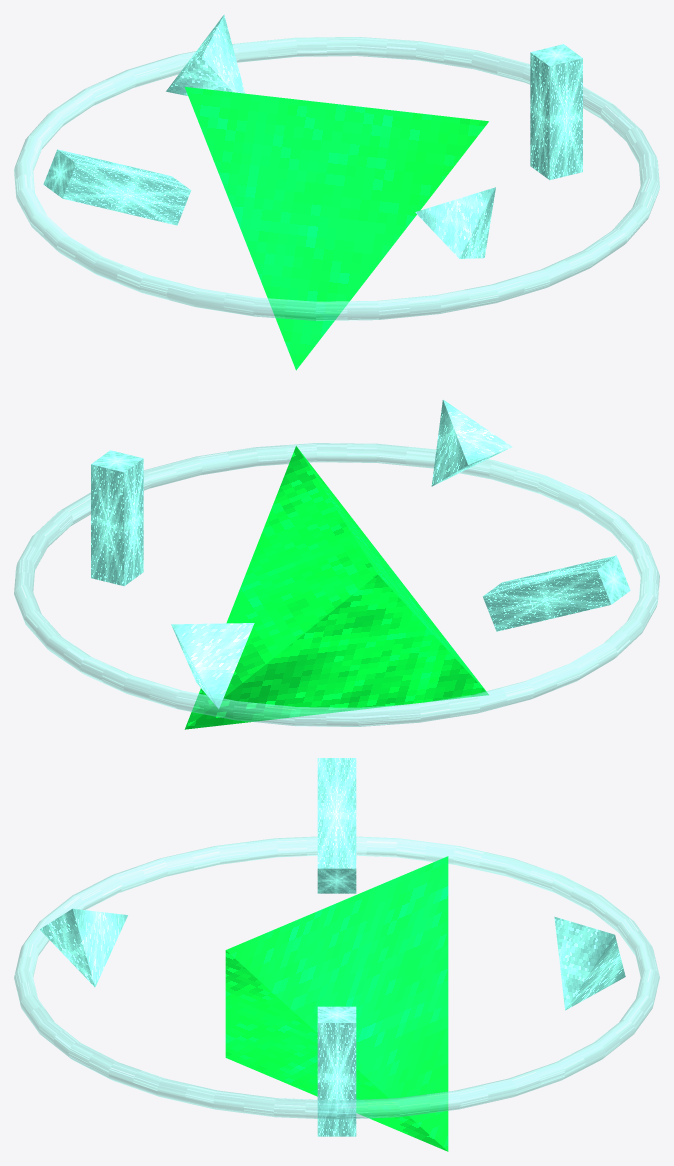
Rendered from anomaly-cluster-green.glb.
3 views of the same model, one above another, from view 1: azimuth 30°, elevation 25°; view 2: azimuth 150°, elevation 25°; view 3: azimuth 270°, elevation 25° (orthographic).
Parts seen in each view (by area): view 1: shell, ring, orbital-0, orbital-2, orbital-1, orbital-3; view 2: shell, ring, orbital-0, orbital-2, orbital-3, orbital-1; view 3: shell, ring, orbital-2, orbital-0, orbital-3, orbital-1.
Boxes of the visible parts, x1,y1,x2,y2 form: shell: (185,87,488,370); ring: (14,37,659,320); orbital-0: (530,44,582,180); orbital-2: (43,149,191,225); orbital-1: (415,187,495,258); orbital-3: (166,14,244,95); shell: (184,446,488,729); ring: (14,443,659,726); orbital-0: (91,450,143,586); orbital-2: (482,555,630,631); orbital-3: (171,623,254,708); orbital-1: (431,399,511,486); shell: (225,856,448,1151); ring: (14,836,659,1119); orbital-2: (317,758,356,893); orbital-0: (317,1006,356,1136); orbital-3: (554,916,625,1010); orbital-1: (40,908,127,987).
Bounding box in the file's own units: 2.7 × 0.9856 × 2.68.
3 materials, 3 textured.
